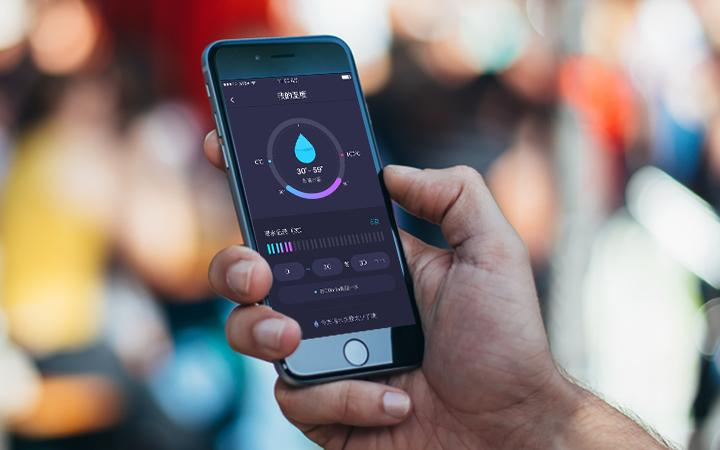phone: (202, 34, 430, 377)
